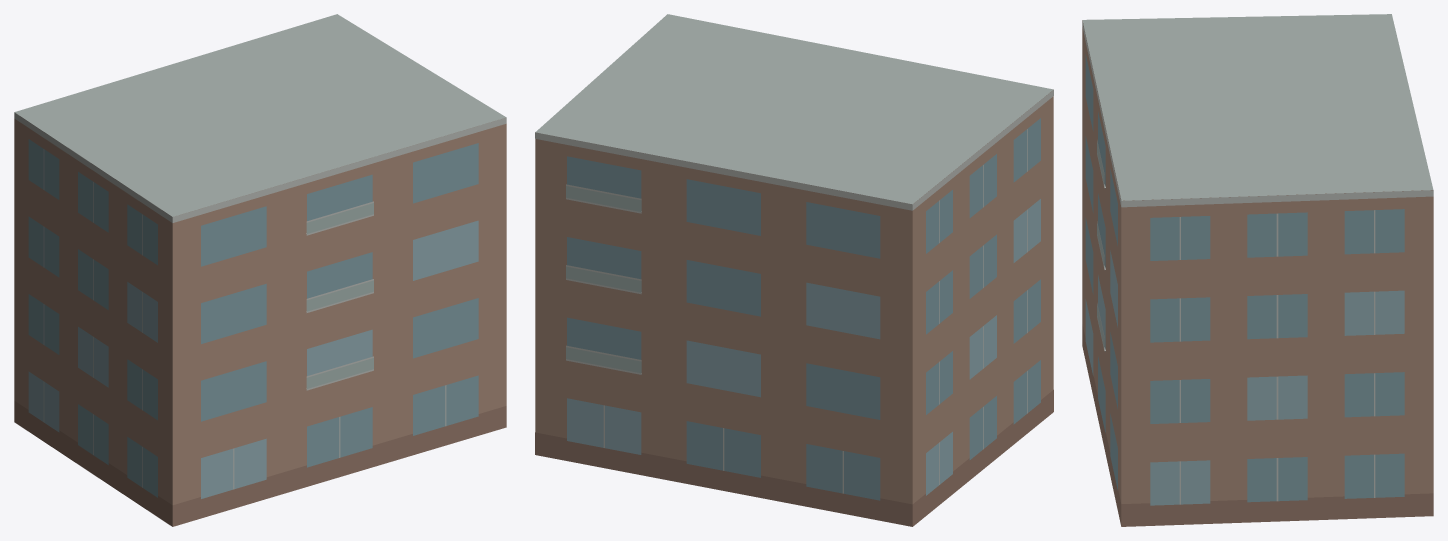
Rendered from survey-upis-32951103.glb.
3 views of the same model, side by side, from view 1: azimuth 30°, elevation 25°; view 2: azimuth 150°, elevation 25°; view 3: azimuth 270°, elevation 25° (orthographic). The views are drawn at different scales.
Visible parts, largest first — view 1: survey-upis-32951103.tmp; view 2: survey-upis-32951103.tmp; view 3: survey-upis-32951103.tmp.
Part boxes in pixels (x1=…): survey-upis-32951103.tmp: x1=14, y1=14, x2=506, y2=526; survey-upis-32951103.tmp: x1=535, y1=14, x2=1053, y2=526; survey-upis-32951103.tmp: x1=1082, y1=14, x2=1433, y2=526.
Bounding box in the file's own units: 15 × 12.2 × 11.92.
